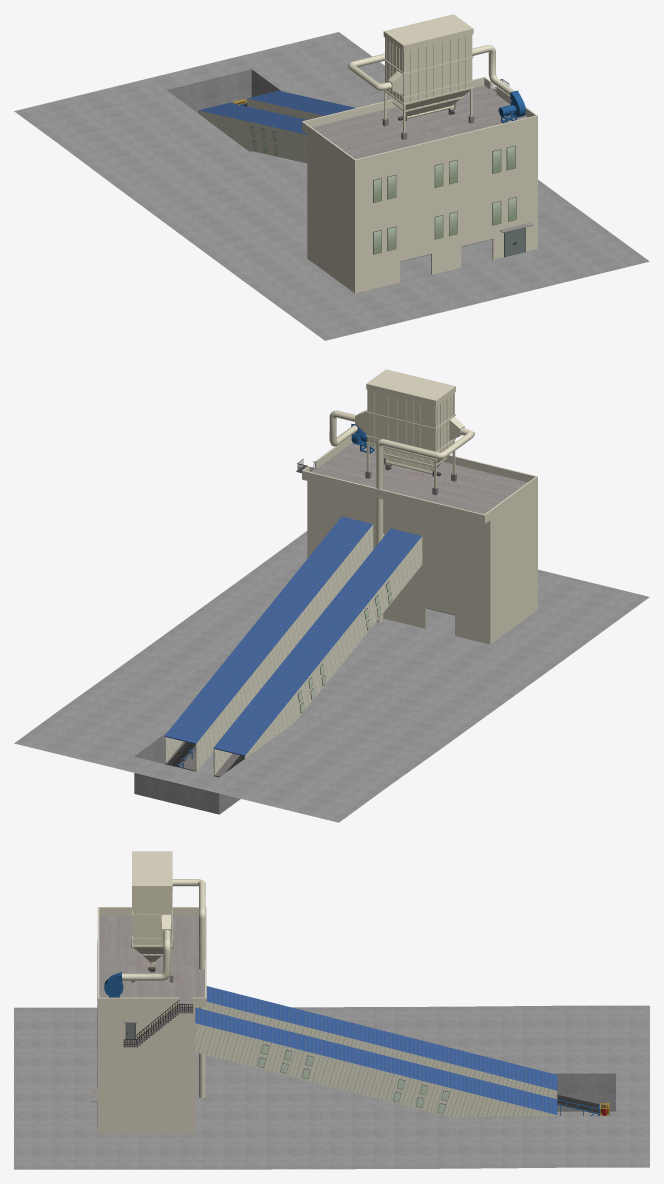
File: 筛粉间.gltf
3 renders of one model, top to bottom at view 1: azimuth 30°, elevation 25°; view 2: azimuth 150°, elevation 25°; view 3: azimuth 270°, elevation 25°, orthographic. The views are drawn at different scales.
Visible parts, largest first — view 1: SF-LB, SF-WQ, SF-SCQ, SF-GFJ; view 2: SF-LB, SF-WQ, SF-SCQ; view 3: SF-LB, SF-WQ, SF-SCQ, SF-JDJ-002.
Boxes of the visible parts, x1,y1,x2,y2 form: SF-LB: (14, 32, 649, 340); SF-WQ: (198, 77, 537, 293); SF-SCQ: (348, 14, 514, 140); SF-GFJ: (498, 90, 525, 123); SF-LB: (14, 442, 649, 822); SF-WQ: (164, 435, 537, 777); SF-SCQ: (329, 369, 474, 622); SF-LB: (14, 915, 649, 1169); SF-WQ: (91, 907, 557, 1134); SF-SCQ: (122, 851, 205, 1097); SF-JDJ-002: (557, 1095, 609, 1115).
Size of the model in its own units: 44.89 by 33.72 by 74.47.
55 materials, 16 textured.
